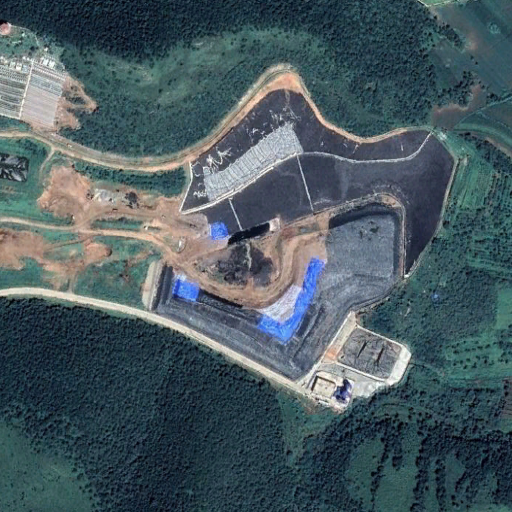lf: (146, 73, 455, 380)
